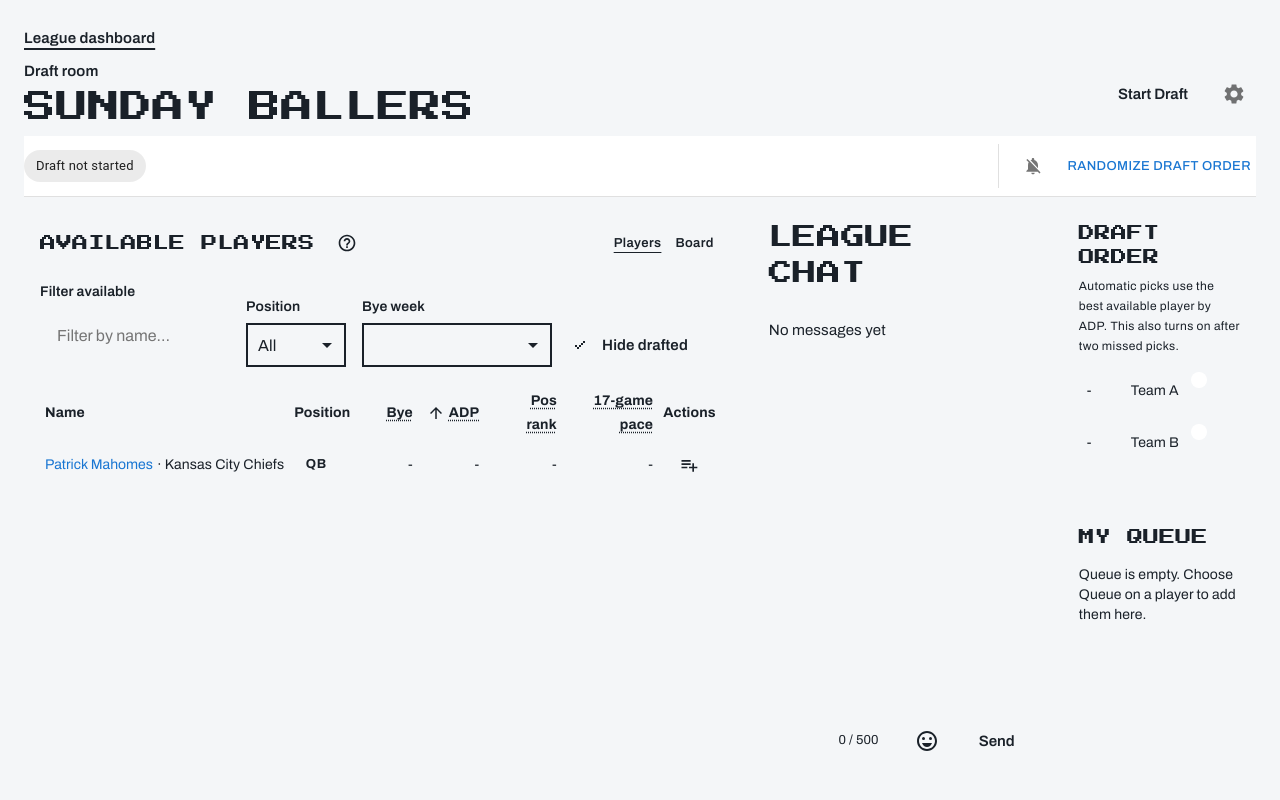
Test: a refusal carrying a code beside a message renders the message, not the code
Expected: the button "Patrick Mahomes" is shown, [45,443,153,487]
Click the button "Randomize Draft order" at (1159, 166), box [1062,144,1256,188]
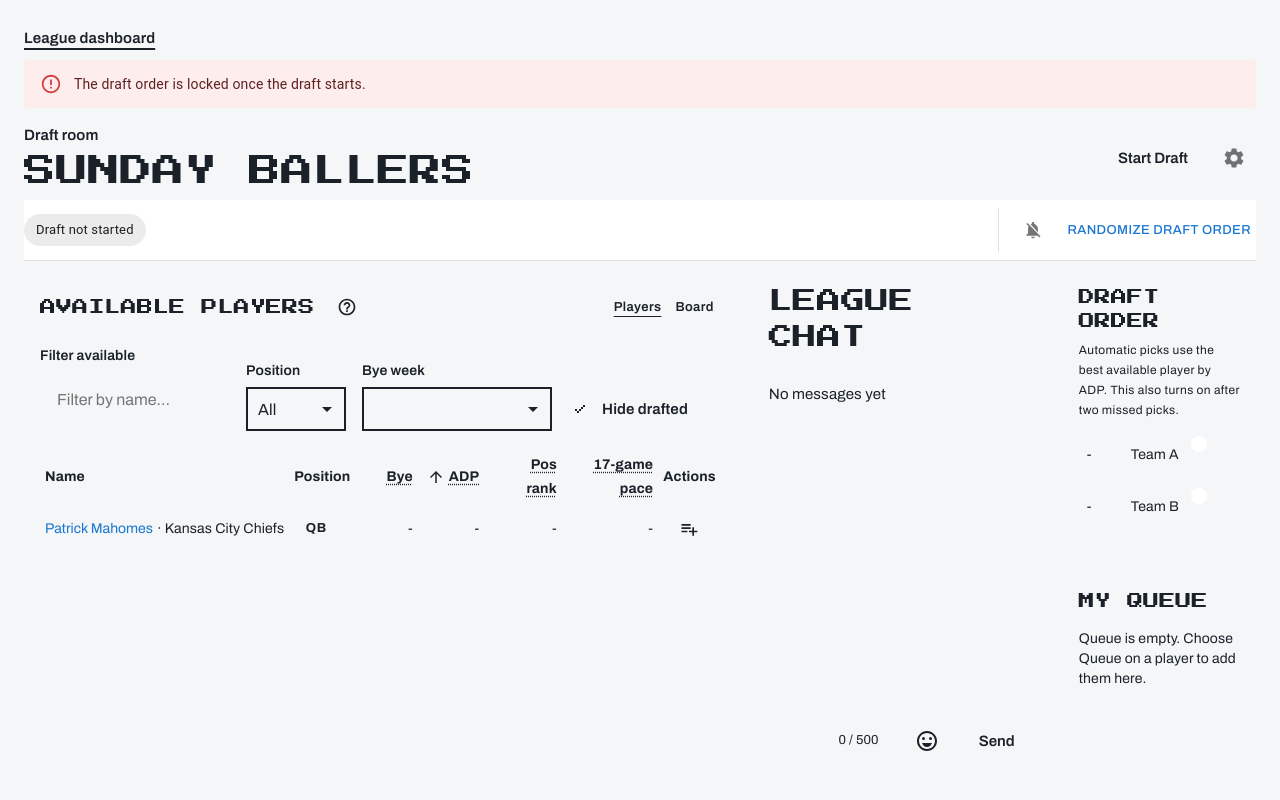
Expected: the text "The draft order is locked once the draft starts." is shown, [74,76,366,92]
